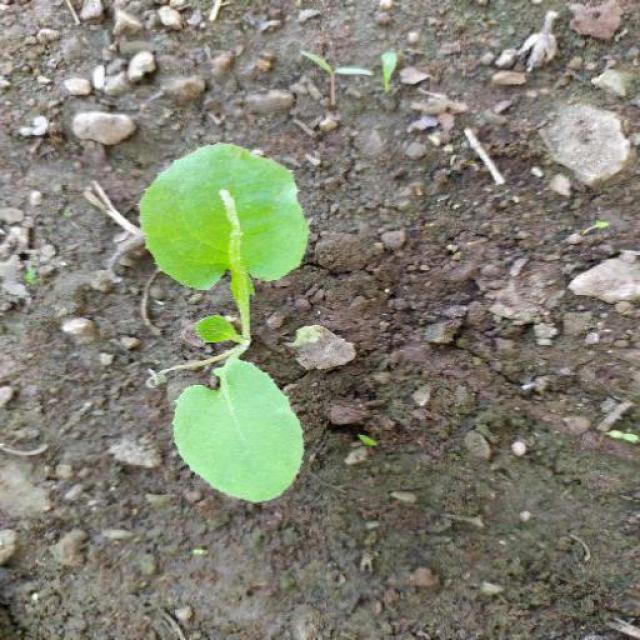weed: (125, 136, 315, 516)
